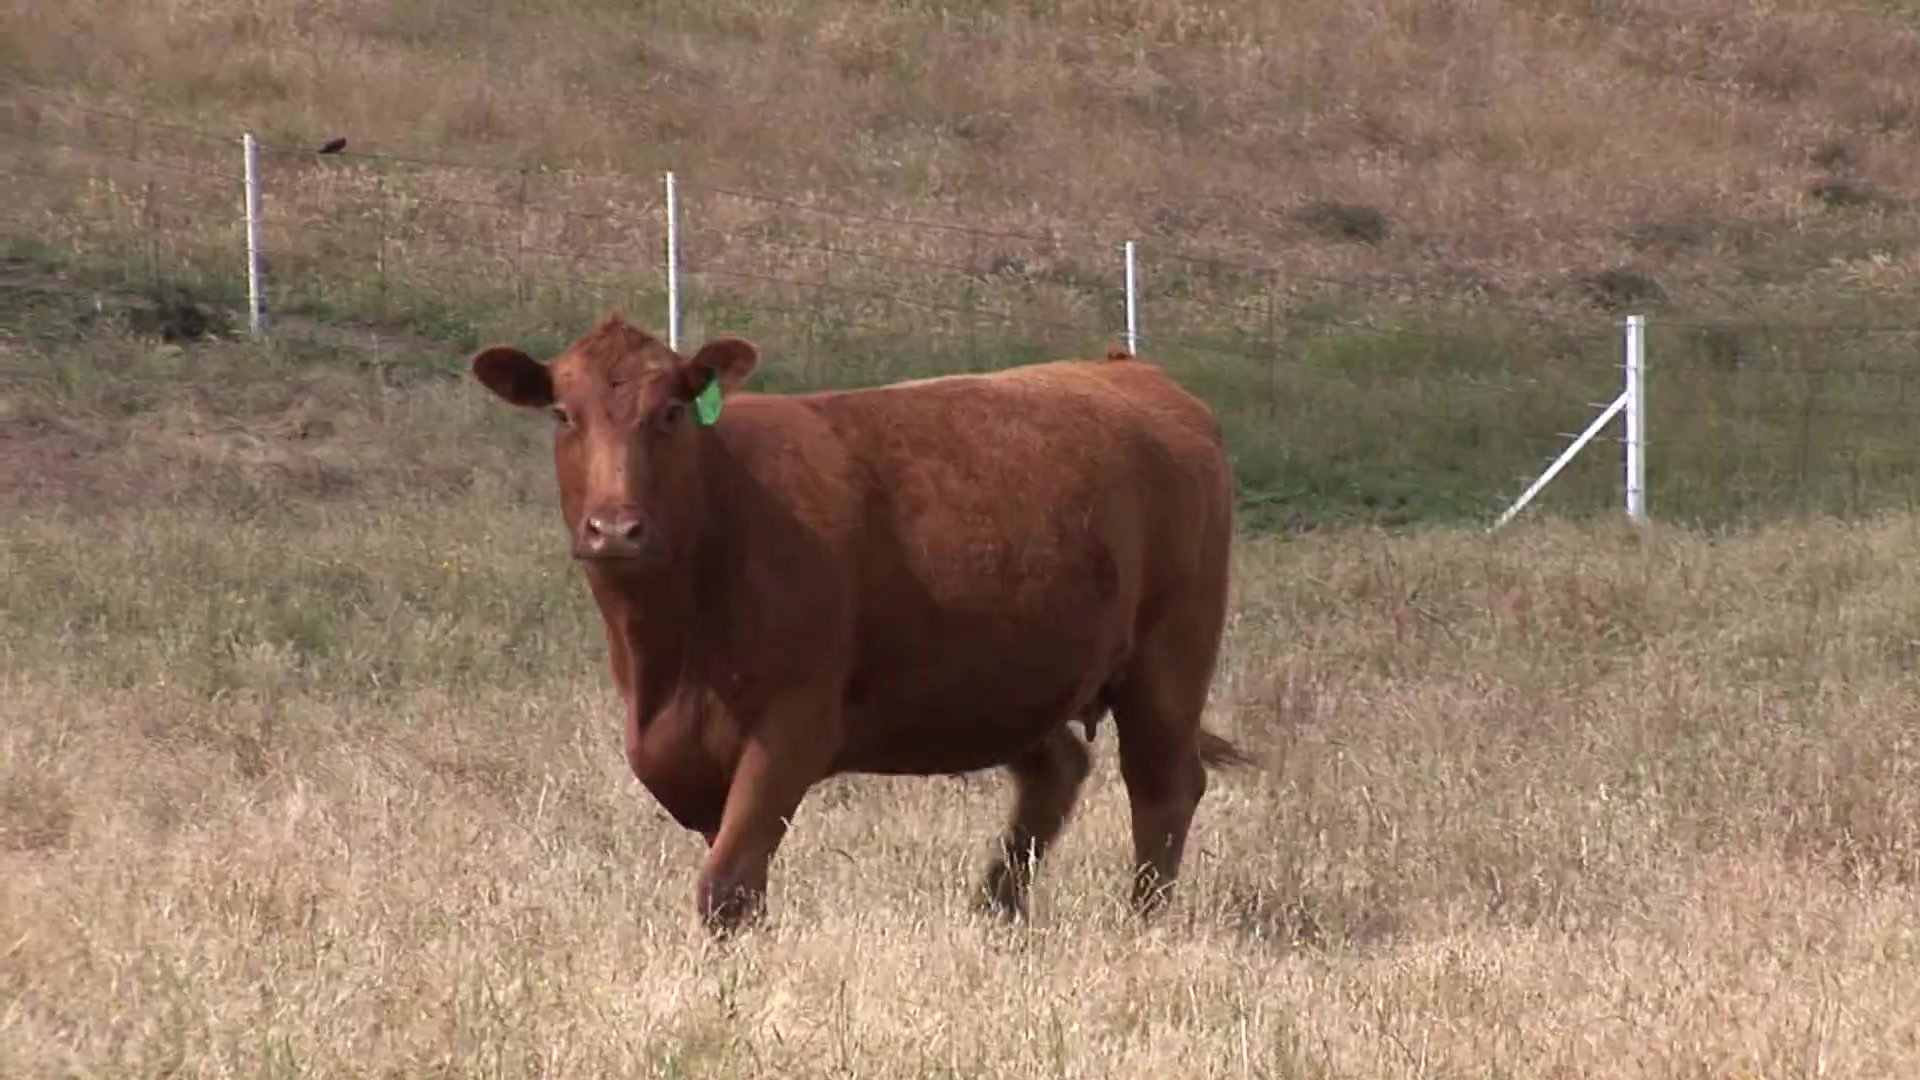cow: (465, 310, 1238, 944)
